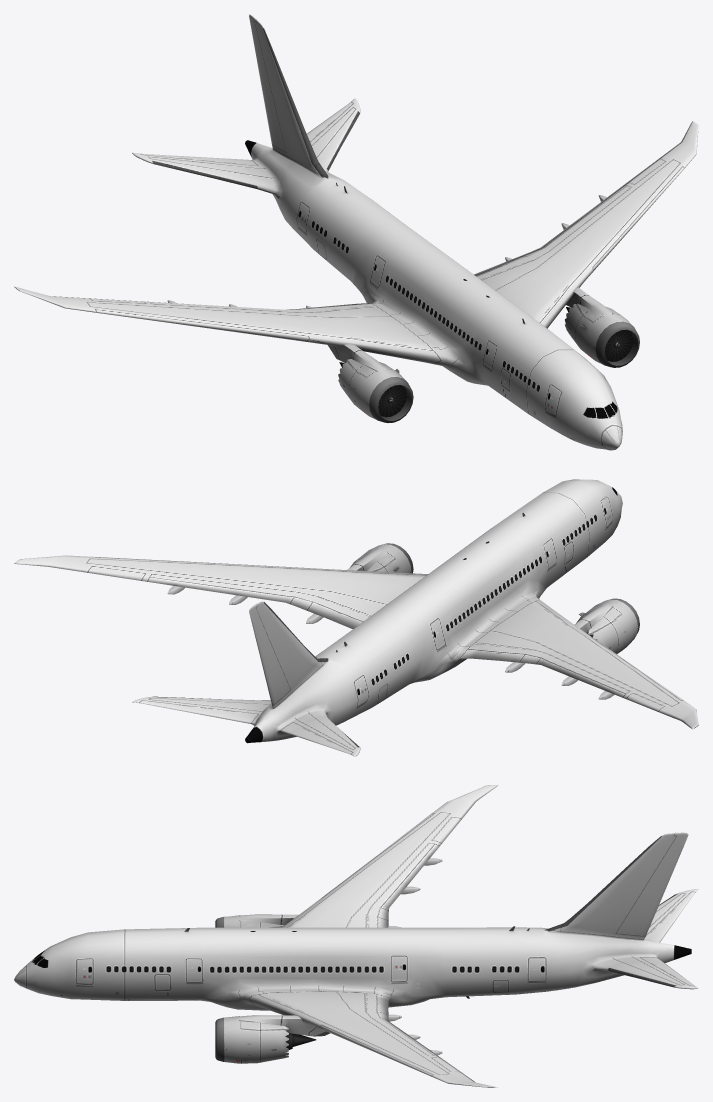
3 views of the same model, one above another, from view 1: azimuth 30°, elevation 25°; view 2: azimuth 150°, elevation 25°; view 3: azimuth 270°, elevation 25° (orthographic). The views are drawn at different scales.
Parts seen in each view (by area): view 1: fuselage, engine; view 2: fuselage, engine, aileron; view 3: fuselage, engine.
Part boxes in pixels (x1,y1,x2,y2): fuselage: (14,14,698,450); engine: (328,287,639,422); fuselage: (14,479,698,756); engine: (347,543,639,653); aileron: (167,586,614,699); fuselage: (14,785,698,1087); engine: (215,914,330,1063).
Bounding box in the file's own units: 58.62 × 16.16 × 56.13.
1 material, 1 textured.
